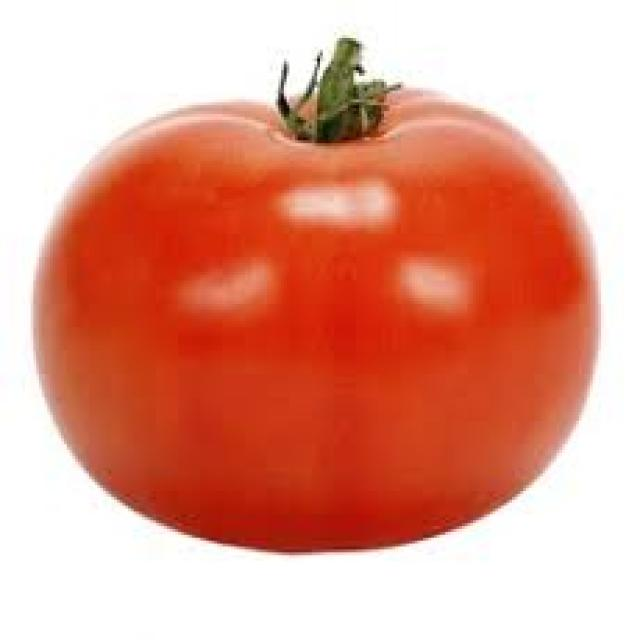Fresh_tomato: (58, 44, 614, 555)
